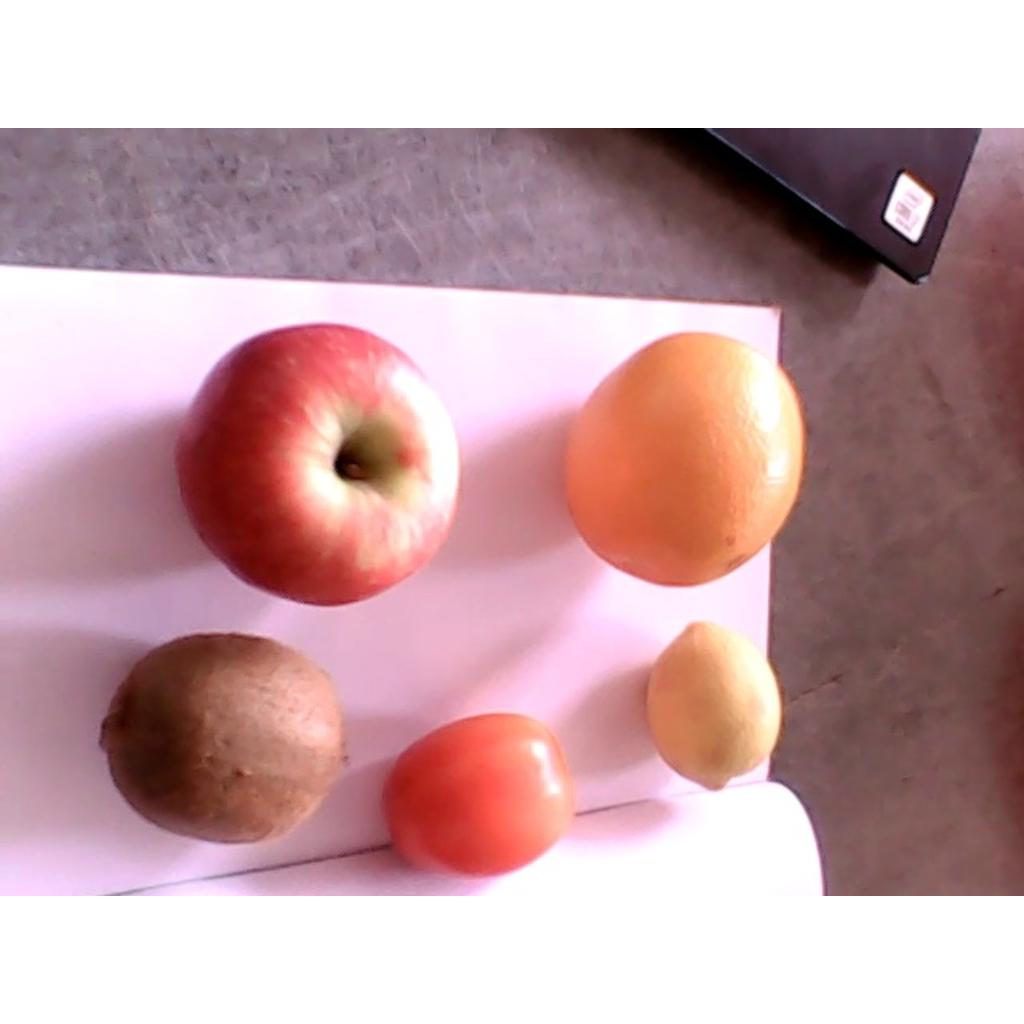apple: (174, 323, 462, 608)
kiwi: (96, 634, 353, 846)
lemon: (646, 622, 780, 789)
orange: (560, 333, 804, 585)
tomato: (378, 715, 577, 877)
